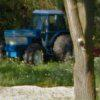Tractor: (5, 5, 71, 71)
